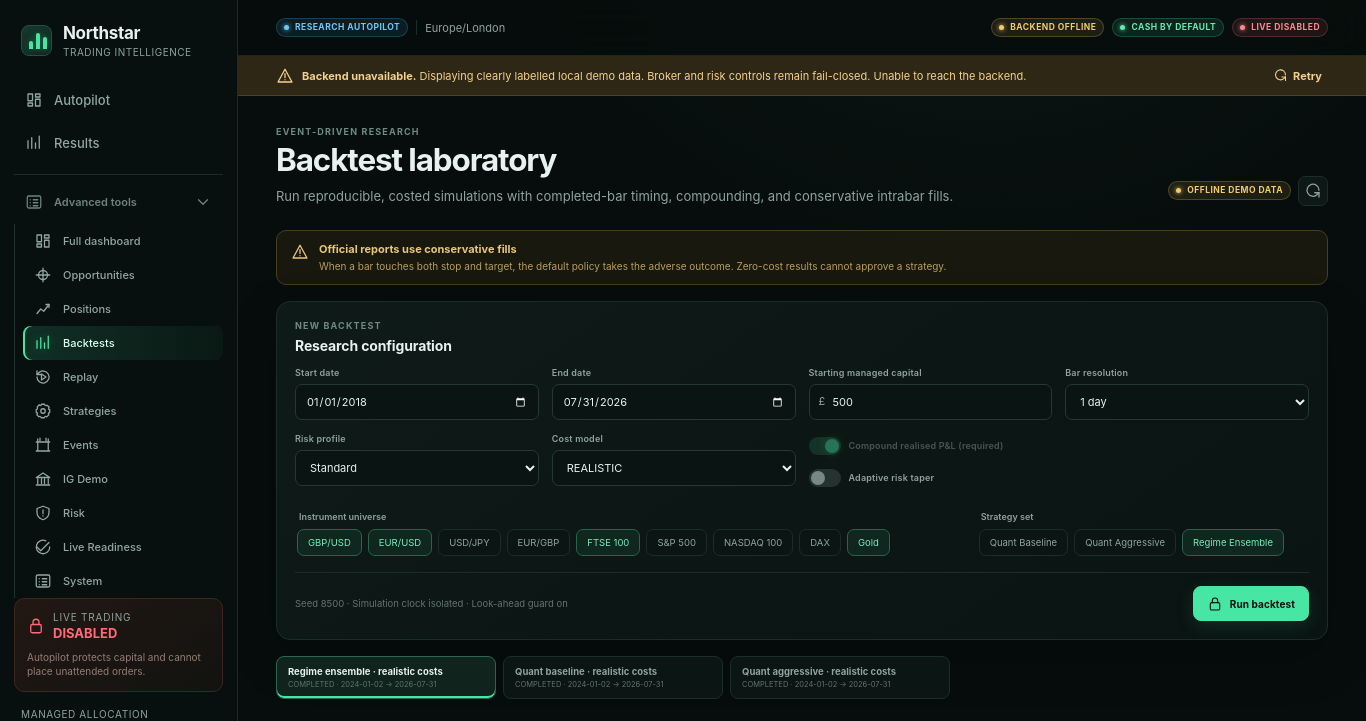
it: trading dashboard › does not pretend an offline backtest submission succeeded
Click the button "Run backtest" at (1251, 604), box [1193, 586, 1309, 621]
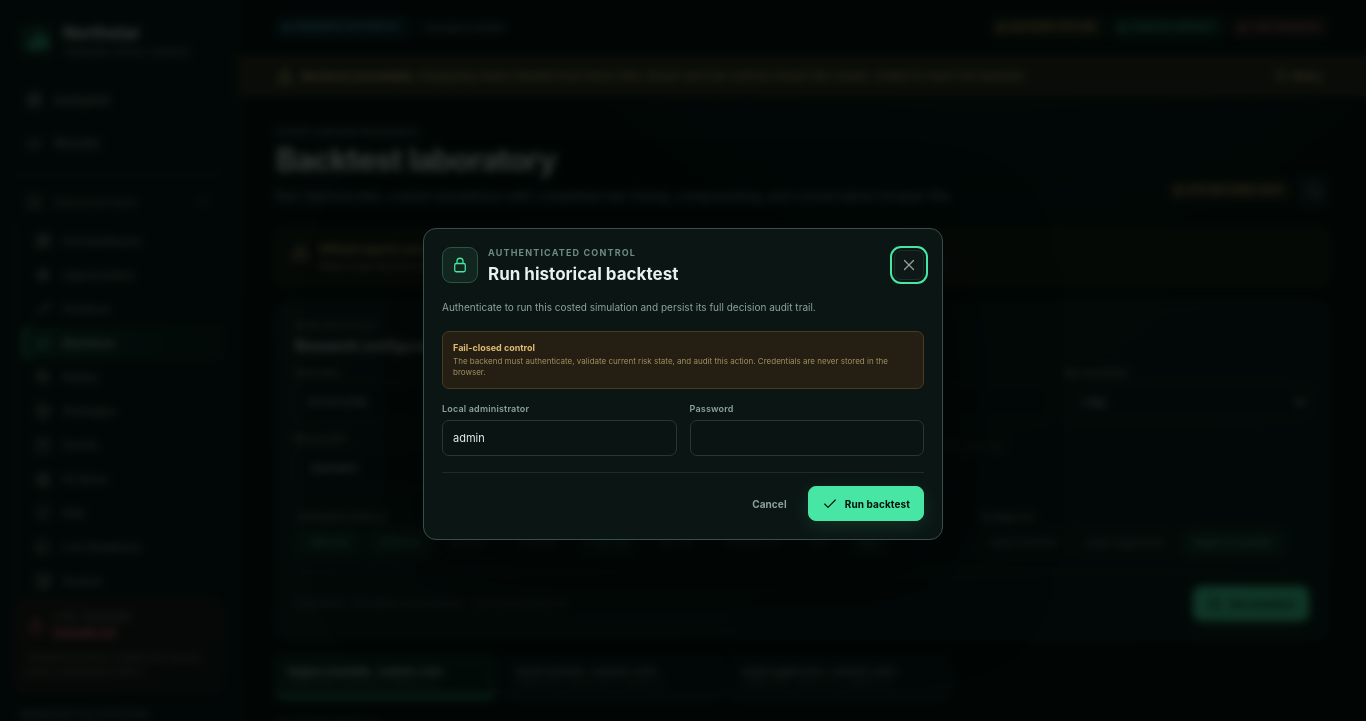
Type "local-test-only" into the password field labelled "Password" at (807, 438), box [690, 420, 924, 456]
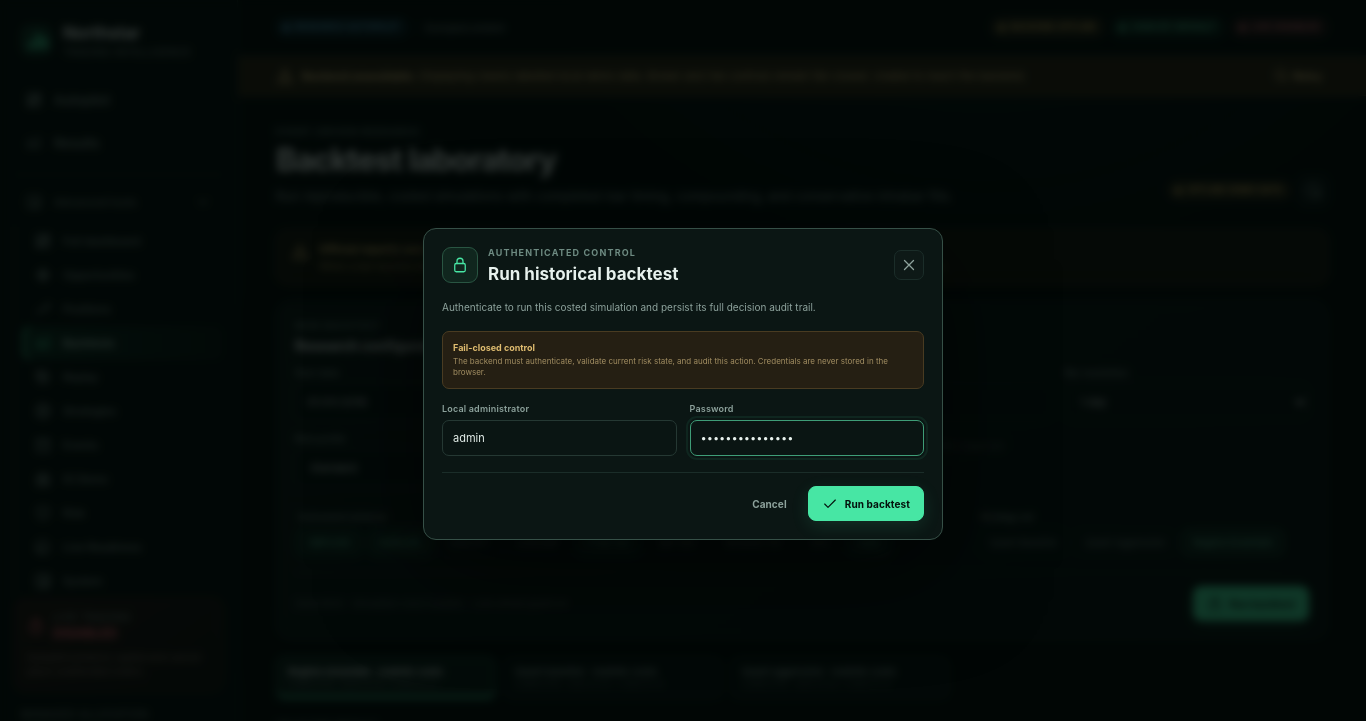
Click the button "Run backtest" below "Password" at (866, 504), box [808, 486, 924, 521]
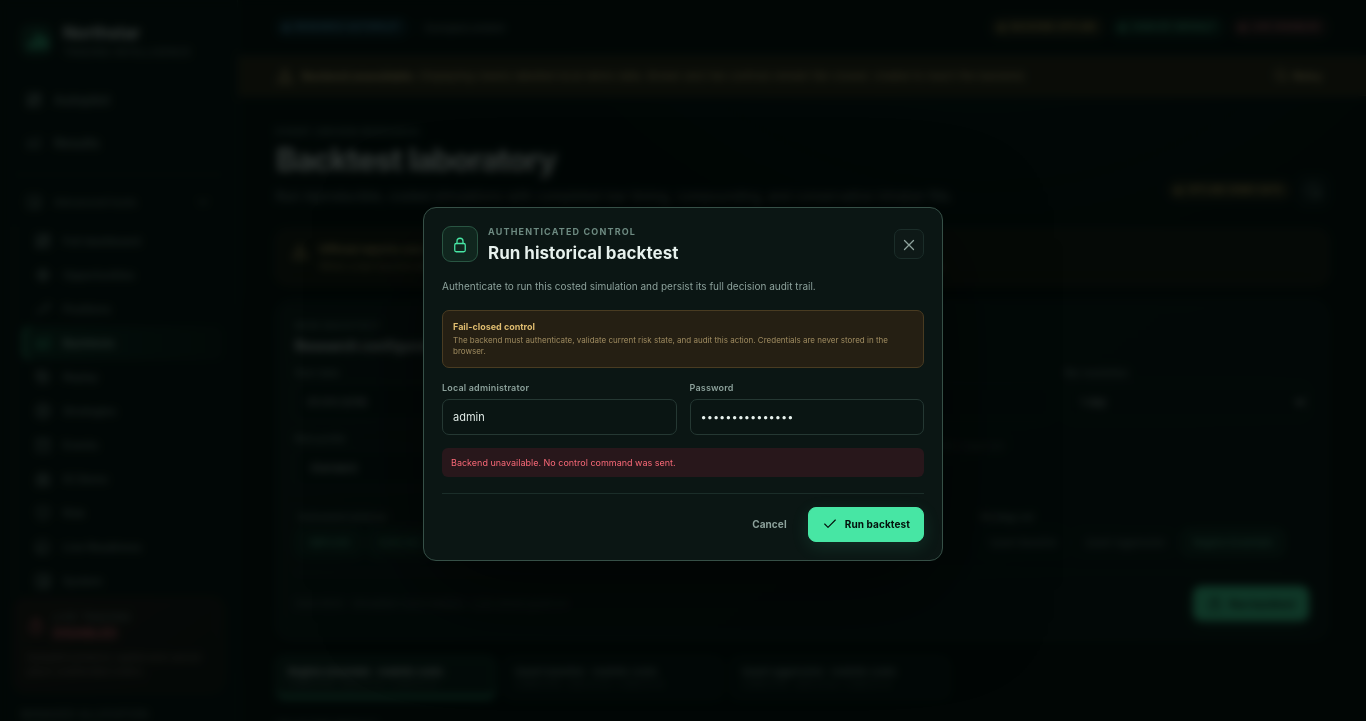
Expected: the text "Backend unavailable. No control command was sent." is shown, [442, 448, 924, 477]
